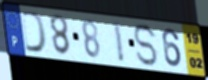6: (161, 27, 184, 69)
8: (49, 13, 73, 57), (81, 18, 102, 60)
D: (19, 9, 49, 55)
I: (112, 20, 127, 65)
S: (132, 22, 160, 68)
